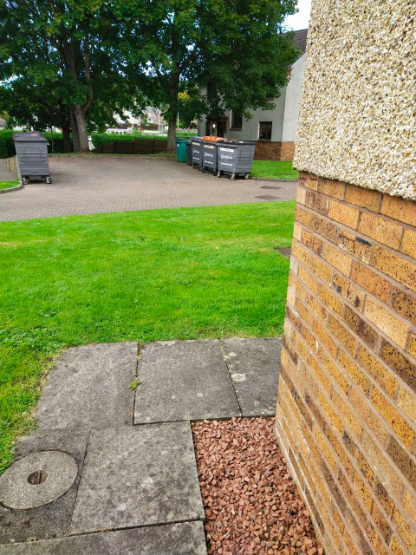tree: (91, 0, 288, 143), (0, 0, 129, 149)
